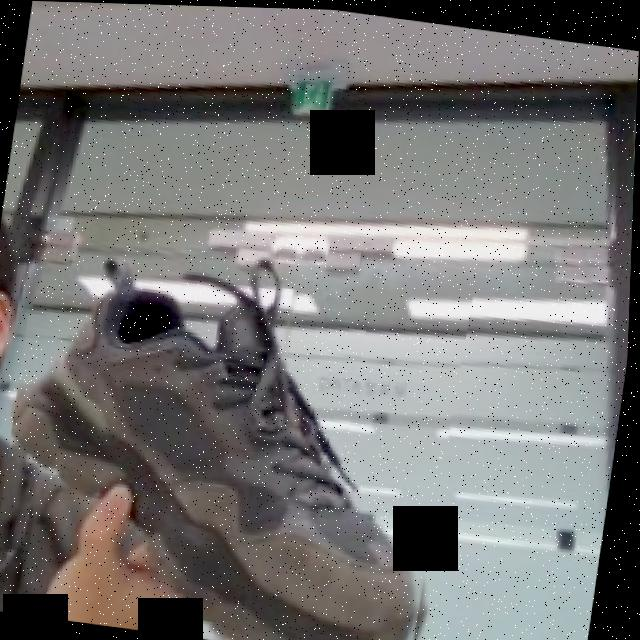shoe: (0, 230, 476, 640)
